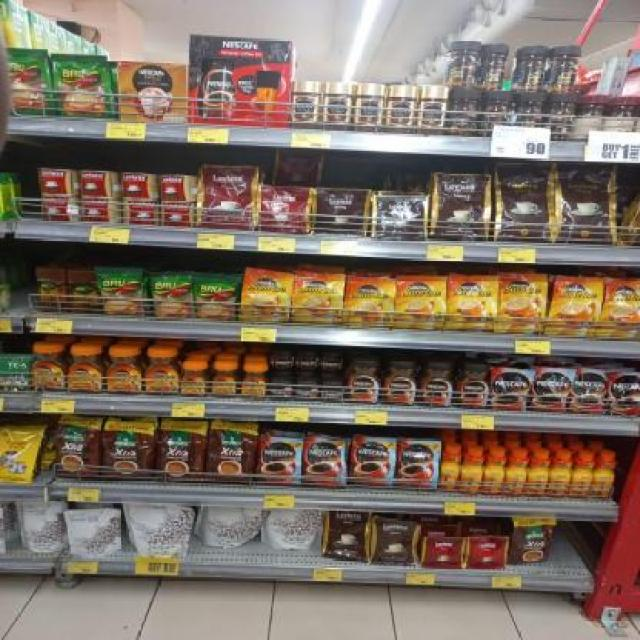Coffee: (549, 277, 600, 335), (497, 274, 545, 332), (447, 276, 496, 332), (395, 278, 447, 329), (598, 278, 640, 338), (292, 272, 340, 323), (347, 278, 393, 329), (349, 437, 394, 489), (243, 272, 288, 322), (257, 436, 301, 486), (302, 439, 347, 487), (396, 441, 438, 492), (67, 347, 105, 393), (530, 368, 568, 414), (144, 349, 181, 396), (106, 350, 143, 395), (345, 359, 381, 404), (30, 346, 65, 392), (491, 368, 529, 410), (455, 365, 490, 409), (419, 363, 453, 408), (572, 370, 606, 415), (381, 362, 417, 404), (608, 373, 640, 418), (292, 81, 320, 128), (356, 84, 384, 131), (419, 87, 446, 135), (323, 83, 351, 129), (388, 85, 414, 132), (241, 365, 268, 400), (210, 365, 238, 398), (180, 365, 208, 398), (577, 451, 594, 498), (533, 451, 549, 497), (599, 451, 615, 497), (444, 446, 460, 491), (465, 449, 481, 493), (555, 451, 571, 495), (510, 451, 525, 497), (487, 449, 502, 494), (319, 381, 344, 404), (318, 351, 344, 372), (268, 350, 294, 370), (294, 381, 318, 402), (294, 352, 318, 372), (269, 380, 293, 400)
